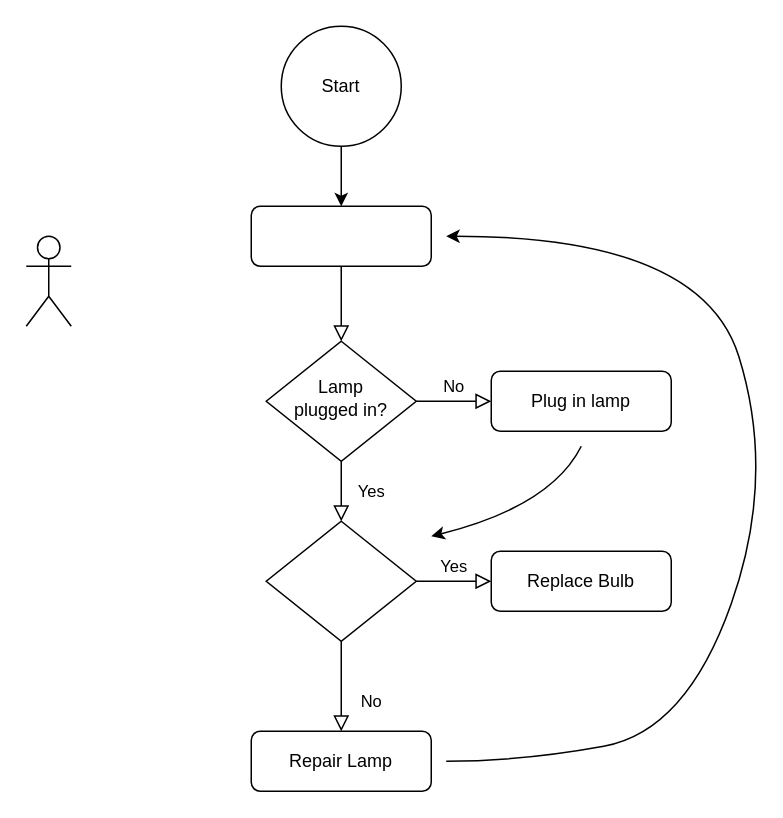
Some shapes in this 783 by 818 pixel diagram are drawn without their labels. The box of each missing label's shape, as (x1, y1, x2, y2) in pixels:
Actor: (25, 235, 71, 326)
Bulb burned out?: (265, 520, 416, 641)
Lamp doesn't work: (250, 205, 431, 266)
